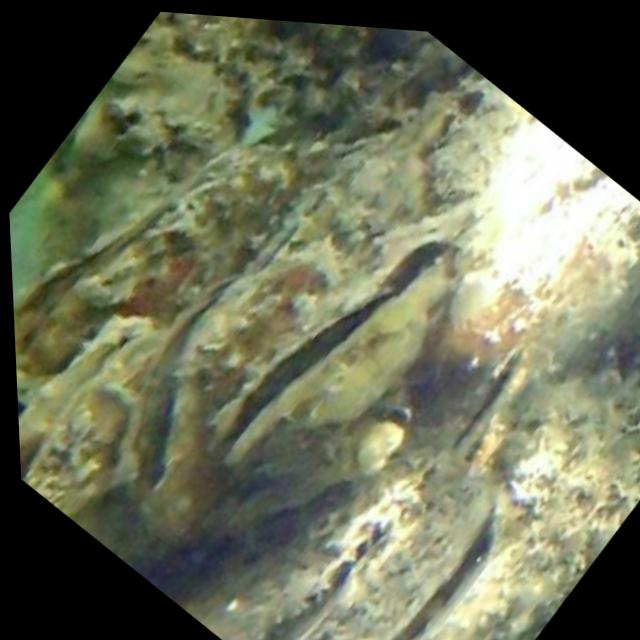Oyster-Indeterminate: (14, 143, 292, 371), (21, 329, 169, 517), (19, 314, 161, 473)
Oyster-Open: (124, 257, 410, 552), (212, 244, 463, 468), (140, 494, 358, 640), (325, 473, 499, 640)
